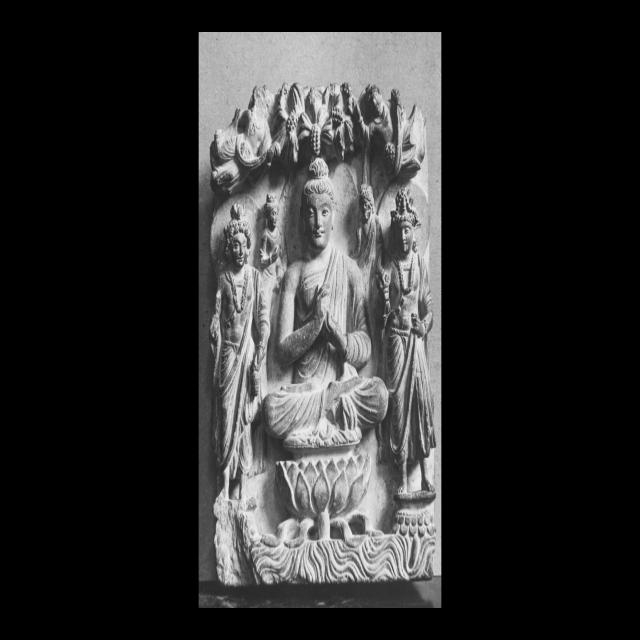buddha-sitting: (262, 160, 388, 540)
